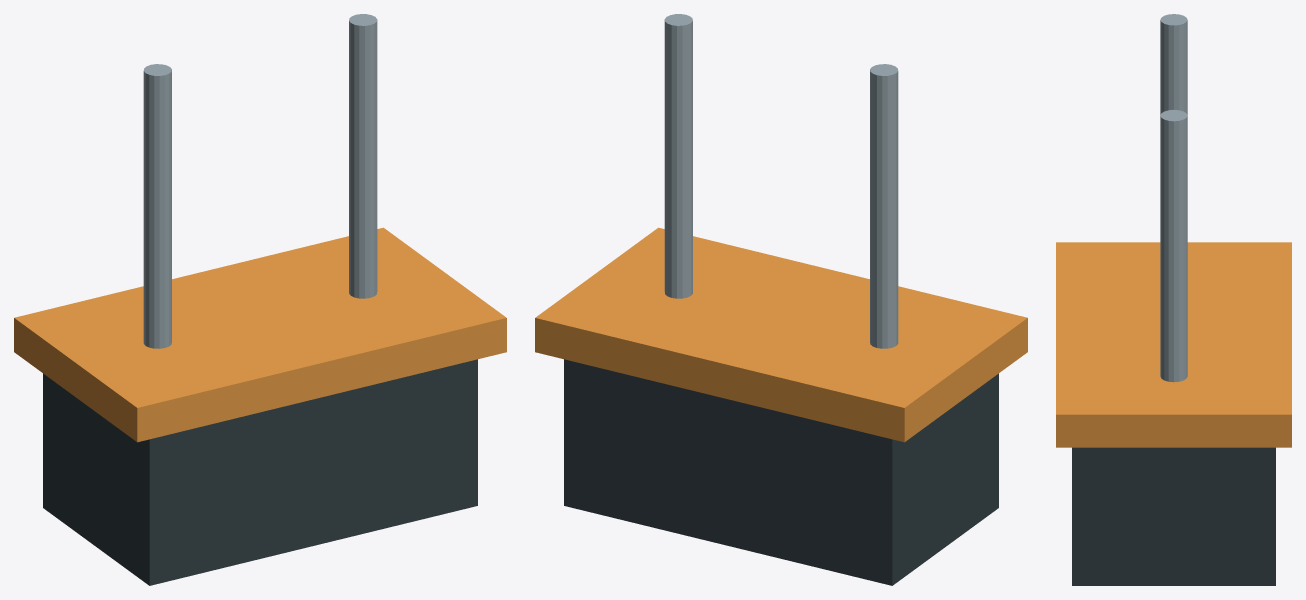
Rendered from ladder_set.glb.
3 renders of one model, left to right at view 1: azimuth 30°, elevation 25°; view 2: azimuth 150°, elevation 25°; view 3: azimuth 270°, elevation 25°, orthographic. The views are drawn at different scales.
Visible parts, largest first — view 1: ladder_set, ladder_set top, Cylinder, Cylinder.001; view 2: ladder_set, ladder_set top, Cylinder, Cylinder.001; view 3: ladder_set top, ladder_set, Cylinder.001, Cylinder.
Boxes of the visible parts, x1,y1,x2,y2 form: ladder_set: (43,359,477,585); ladder_set top: (14,227,506,442); Cylinder: (143,64,171,348); Cylinder.001: (349,14,377,298); ladder_set: (564,359,998,585); ladder_set top: (535,227,1027,442); Cylinder: (870,64,898,348); Cylinder.001: (664,14,692,298); ladder_set top: (1056,242,1291,447); ladder_set: (1072,447,1275,585); Cylinder.001: (1160,110,1187,382); Cylinder: (1160,14,1187,114).
Bounding box in the file's own units: 1.8 × 2.15 × 1.04.
